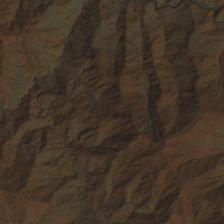landslides: (138, 120, 151, 134)
